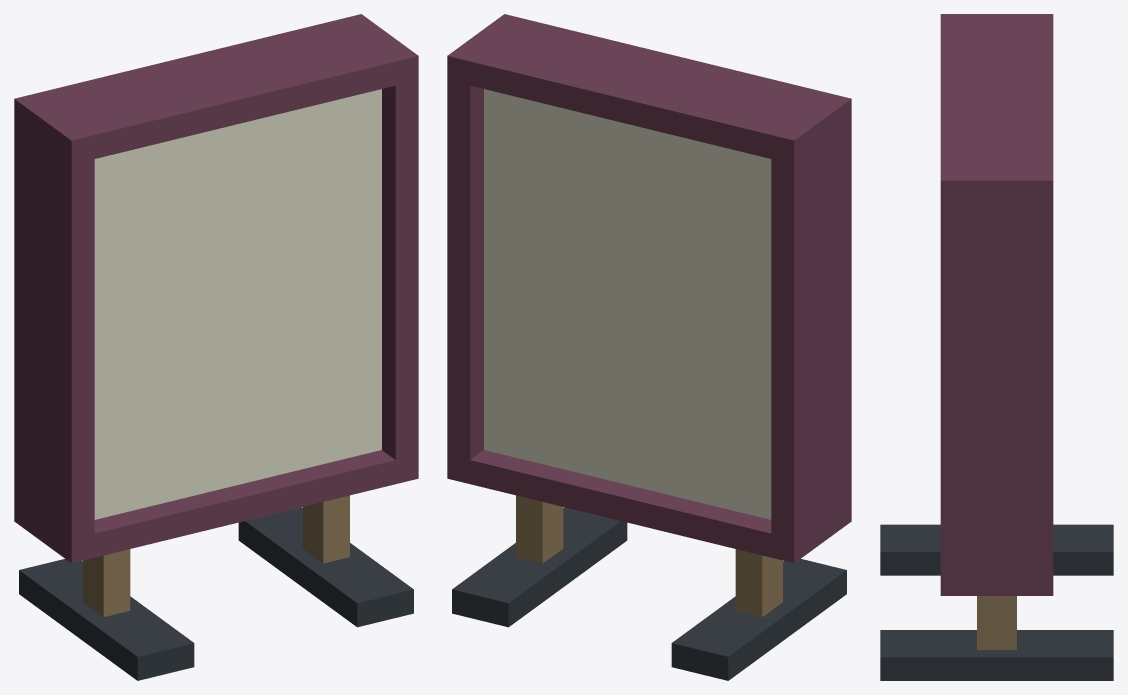
3 views of the same model, side by side, from view 1: azimuth 30°, elevation 25°; view 2: azimuth 150°, elevation 25°; view 3: azimuth 270°, elevation 25° (orthographic).
Visible parts, largest first — view 1: Front_ThickOpaqueBlankPanel, Continuous_DoubleShoulderThroughFrame, Left_WideGroundRunner, Right_WideGroundRunner, Left_FixedShortColumn, Right_FixedShortColumn; view 2: Back_ThickOpaqueBlankPanel, Continuous_DoubleShoulderThroughFrame, Left_WideGroundRunner, Right_WideGroundRunner, Left_FixedShortColumn, Right_FixedShortColumn; view 3: Continuous_DoubleShoulderThroughFrame, Right_WideGroundRunner, Left_WideGroundRunner, Right_FixedShortColumn.
Boxes of the visible parts, <box> form: Front_ThickOpaqueBlankPanel: <box>94,89,381,519</box>; Continuous_DoubleShoulderThroughFrame: <box>14,14,418,563</box>; Left_WideGroundRunner: <box>19,559,194,680</box>; Right_WideGroundRunner: <box>238,507,413,627</box>; Left_FixedShortColumn: <box>83,549,130,617</box>; Right_FixedShortColumn: <box>302,495,349,563</box>; Back_ThickOpaqueBlankPanel: <box>484,89,771,519</box>; Continuous_DoubleShoulderThroughFrame: <box>447,14,851,563</box>; Left_WideGroundRunner: <box>671,559,846,680</box>; Right_WideGroundRunner: <box>452,507,627,627</box>; Left_FixedShortColumn: <box>735,549,782,617</box>; Right_FixedShortColumn: <box>516,495,563,563</box>; Continuous_DoubleShoulderThroughFrame: <box>940,14,1053,595</box>; Right_WideGroundRunner: <box>880,630,1113,680</box>; Left_WideGroundRunner: <box>880,524,1113,575</box>; Right_FixedShortColumn: <box>977,596,1016,649</box>.
Size of the model in its own units: 0.98 by 1.42 by 0.58.
